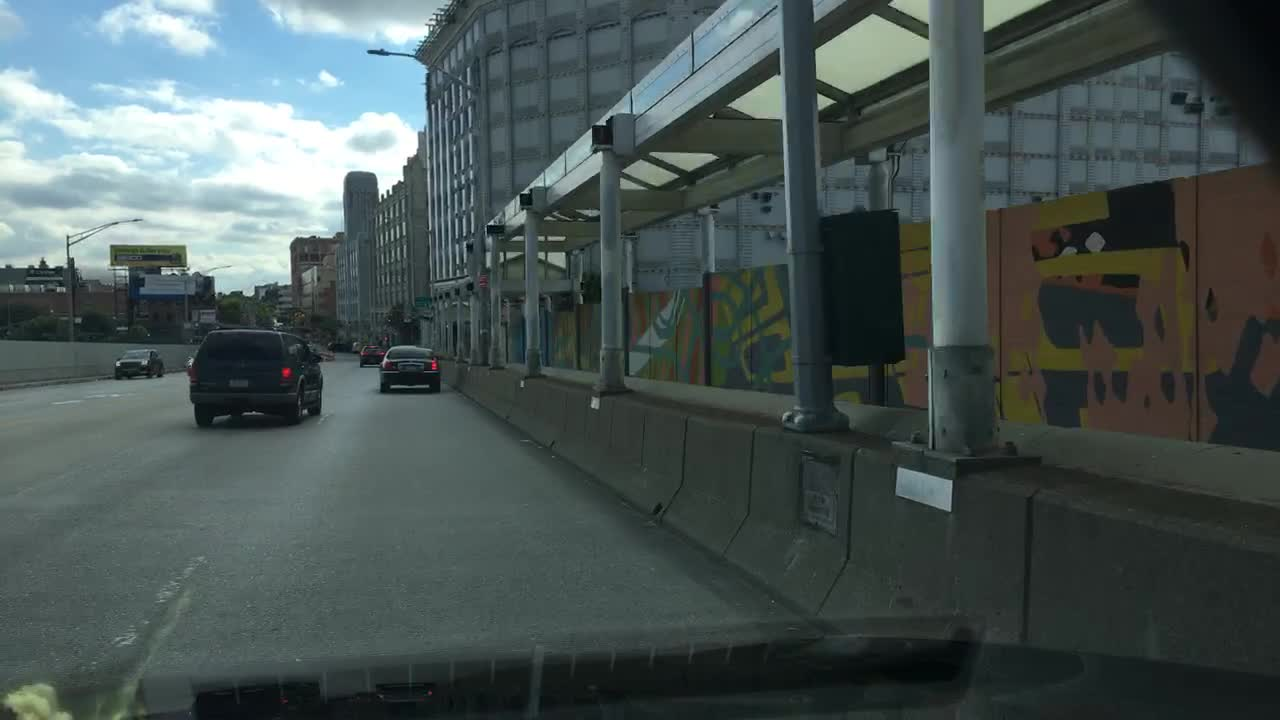car: (183, 326, 327, 427), (376, 343, 446, 397), (110, 347, 168, 381), (357, 343, 386, 369), (325, 339, 350, 356), (348, 340, 367, 355)
traffic sign: (187, 300, 222, 323), (23, 266, 65, 285), (413, 294, 435, 312), (290, 308, 308, 324), (475, 271, 488, 289)
